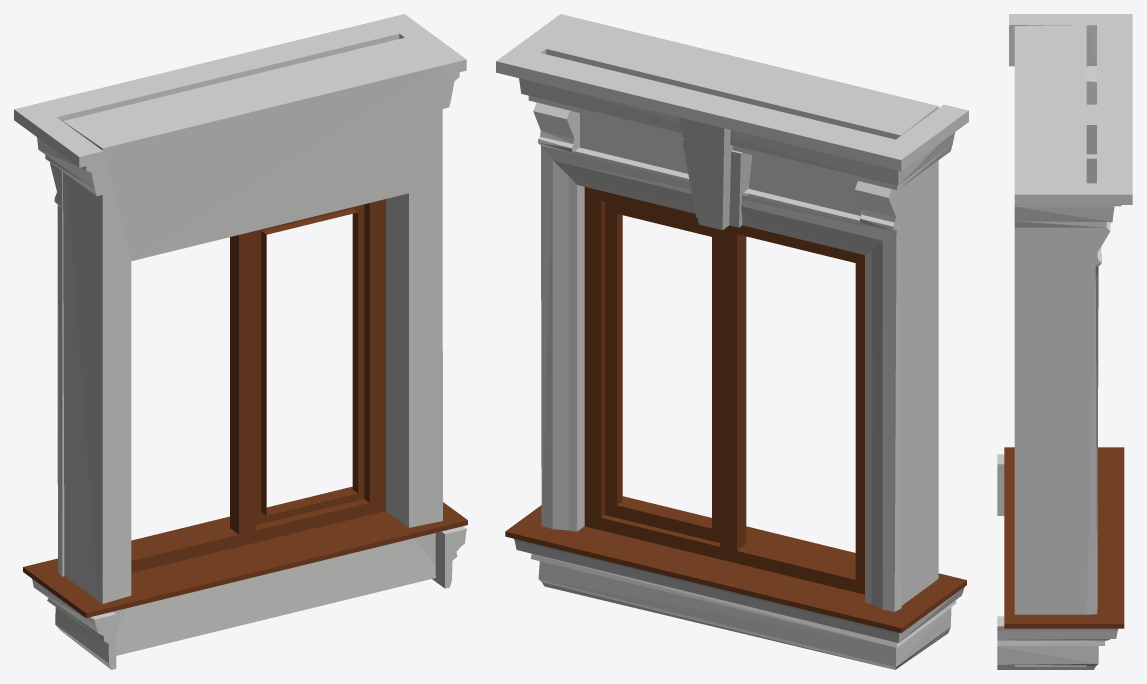
File: windowFrame.fbx
The picture shows the model from 3 angles, left to right: view 1: azimuth 30°, elevation 25°; view 2: azimuth 150°, elevation 25°; view 3: azimuth 270°, elevation 25°; orthographic projection. The views are drawn at different scales.
Parts seen in each view (by area): view 1: group_0.002; view 2: group_0.002; view 3: group_0.002.
Boxes of the visible parts, left/top/right/bottom form: group_0.002: left=14, top=14, right=467, bottom=669; group_0.002: left=496, top=14, right=968, bottom=669; group_0.002: left=997, top=14, right=1132, bottom=669.
Bounding box in the file's own units: 79.35 × 99.94 × 25.14.
